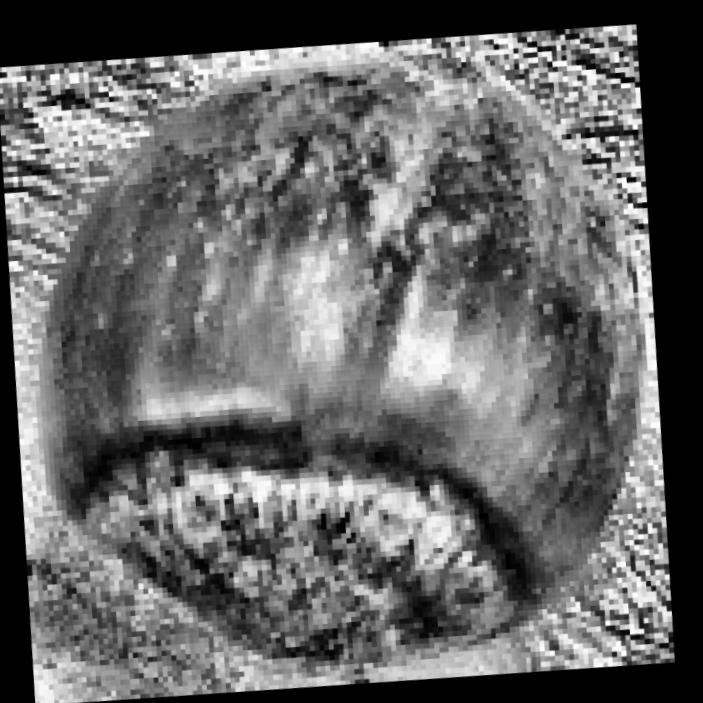qualityHazelnut: (0, 0, 703, 703)
